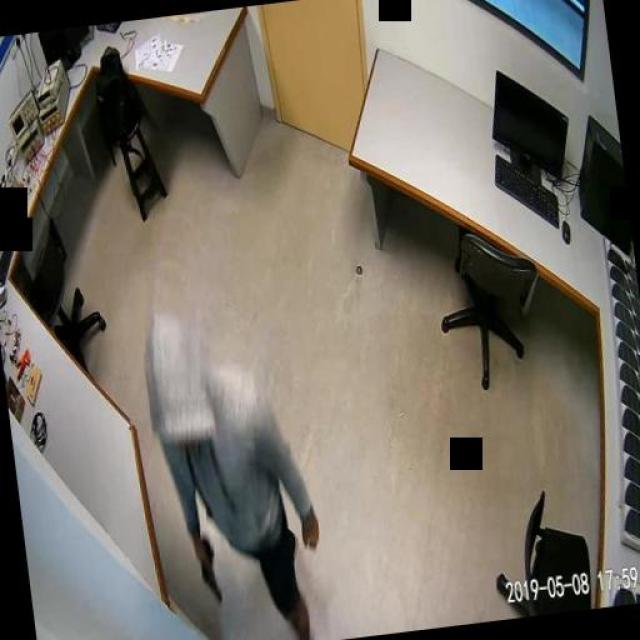gun: (195, 532, 223, 602)
